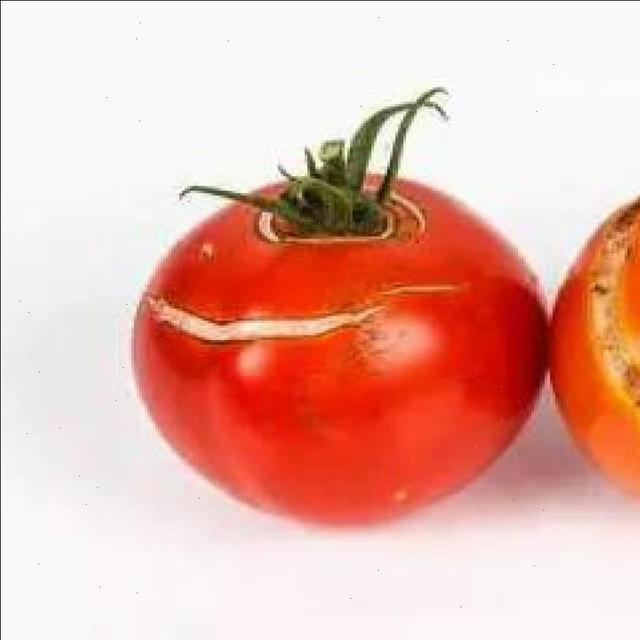Cracking Fruit: (41, 52, 406, 206)
